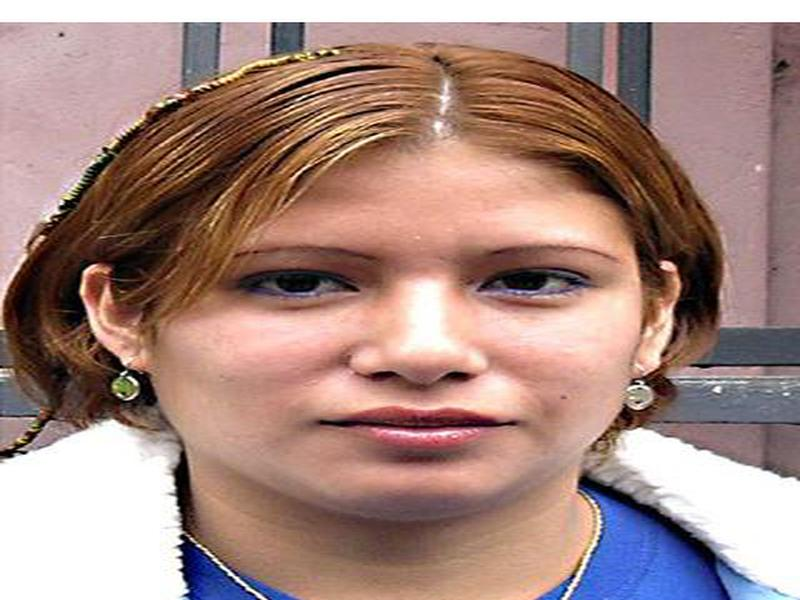without_mask: (153, 134, 640, 519)
